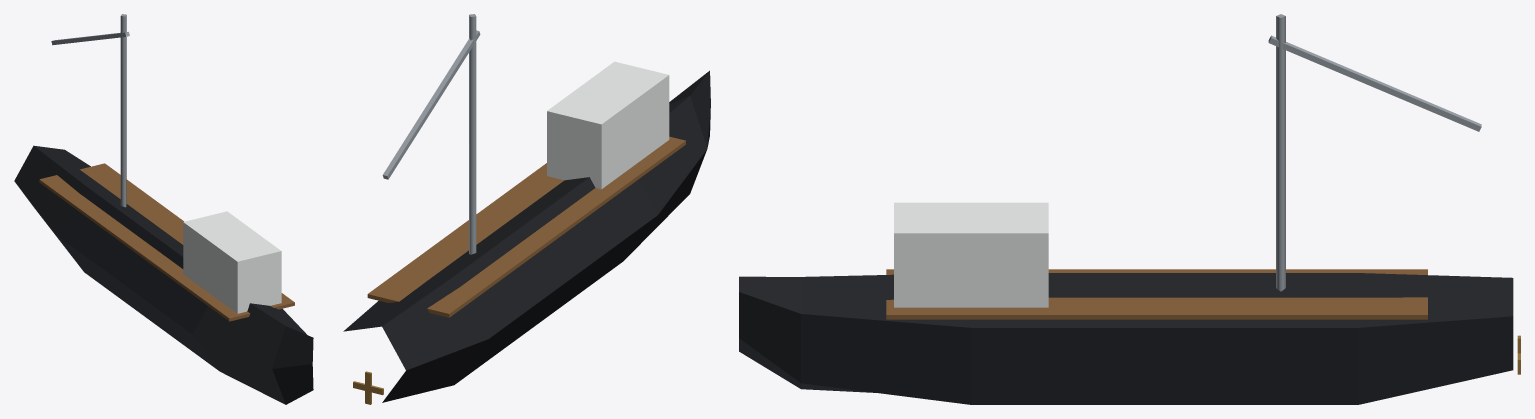
The model's file is veh_naval_fishing_a06_lod1.glb.
3 views of the same model, side by side, from view 1: azimuth 30°, elevation 25°; view 2: azimuth 150°, elevation 25°; view 3: azimuth 270°, elevation 25° (orthographic). The views are drawn at different scales.
Visible parts, largest first — view 1: body, crane; view 2: body, crane, propeller; view 3: body, crane.
Boxes of the visible parts, box(x1,y1,x2,y2) form: body: box(14, 14, 313, 404); crane: box(51, 32, 129, 45); body: box(343, 14, 710, 402); crane: box(382, 30, 480, 179); propeller: box(353, 371, 383, 404); body: box(739, 14, 1513, 404); crane: box(1268, 35, 1481, 131).
Bounding box in the file's own units: 1.95 × 7.01 × 12.73.
